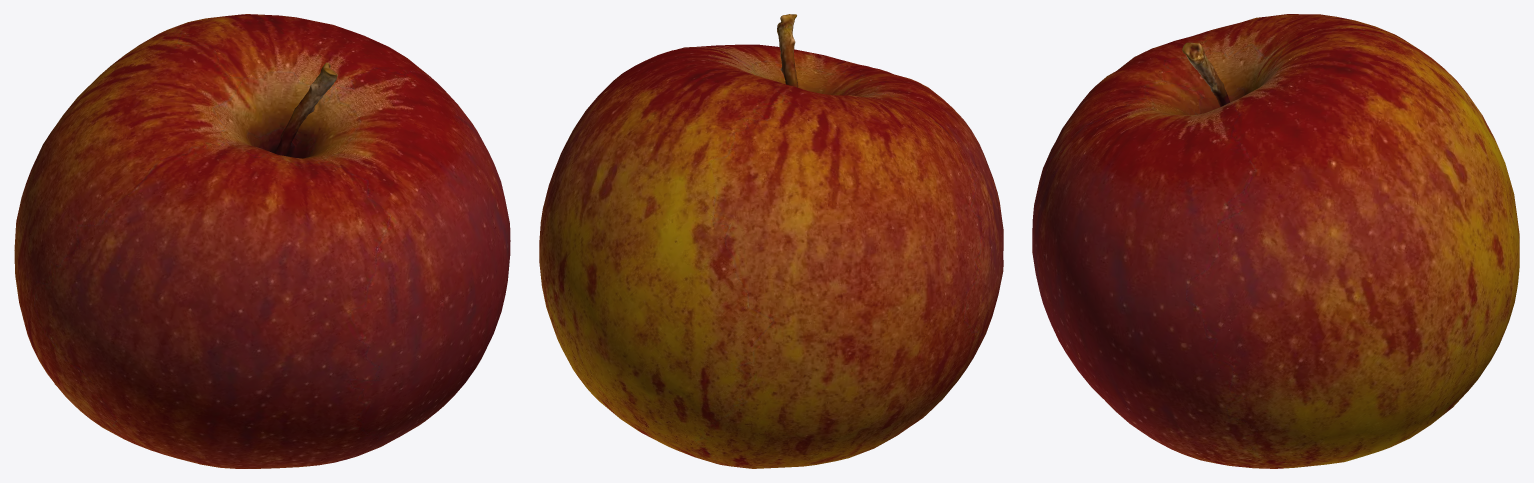
Rendered from universal-ph-red-apple.glb.
The picture shows the model from 3 angles, left to right: view 1: azimuth 30°, elevation 25°; view 2: azimuth 150°, elevation 25°; view 3: azimuth 270°, elevation 25°; orthographic projection. The views are drawn at different scales.
Visible parts, largest first — view 1: food_apple_01; view 2: food_apple_01; view 3: food_apple_01.
Boxes of the visible parts, x1=… form: food_apple_01: x1=14, y1=14, x2=510, y2=468; food_apple_01: x1=539, y1=14, x2=1003, y2=468; food_apple_01: x1=1032, y1=14, x2=1519, y2=468.
Bounding box in the file's own units: 0.0976 × 0.0854 × 0.0959.
Materials: 1 (1 with a texture image).
